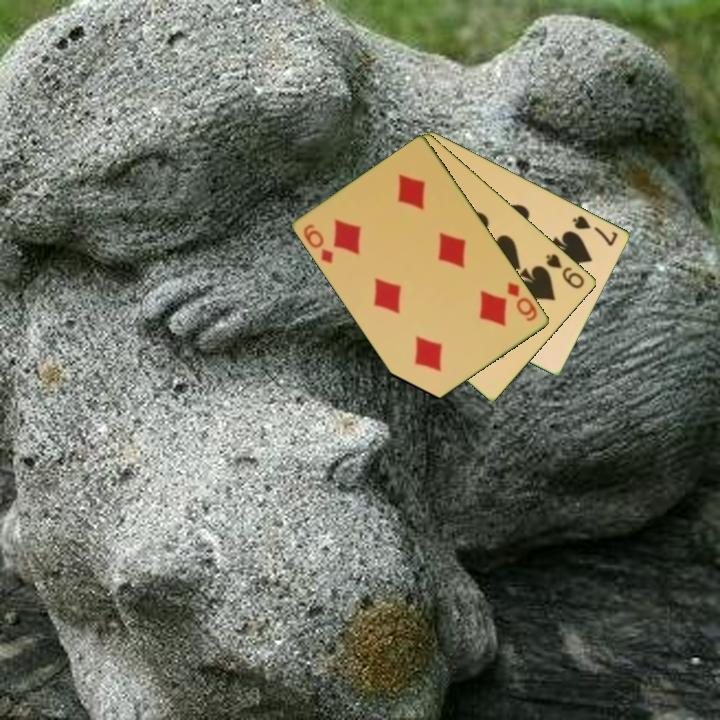6d: (504, 278, 541, 325), (300, 220, 337, 266)
7s: (569, 212, 621, 249)
9s: (543, 250, 588, 292)
